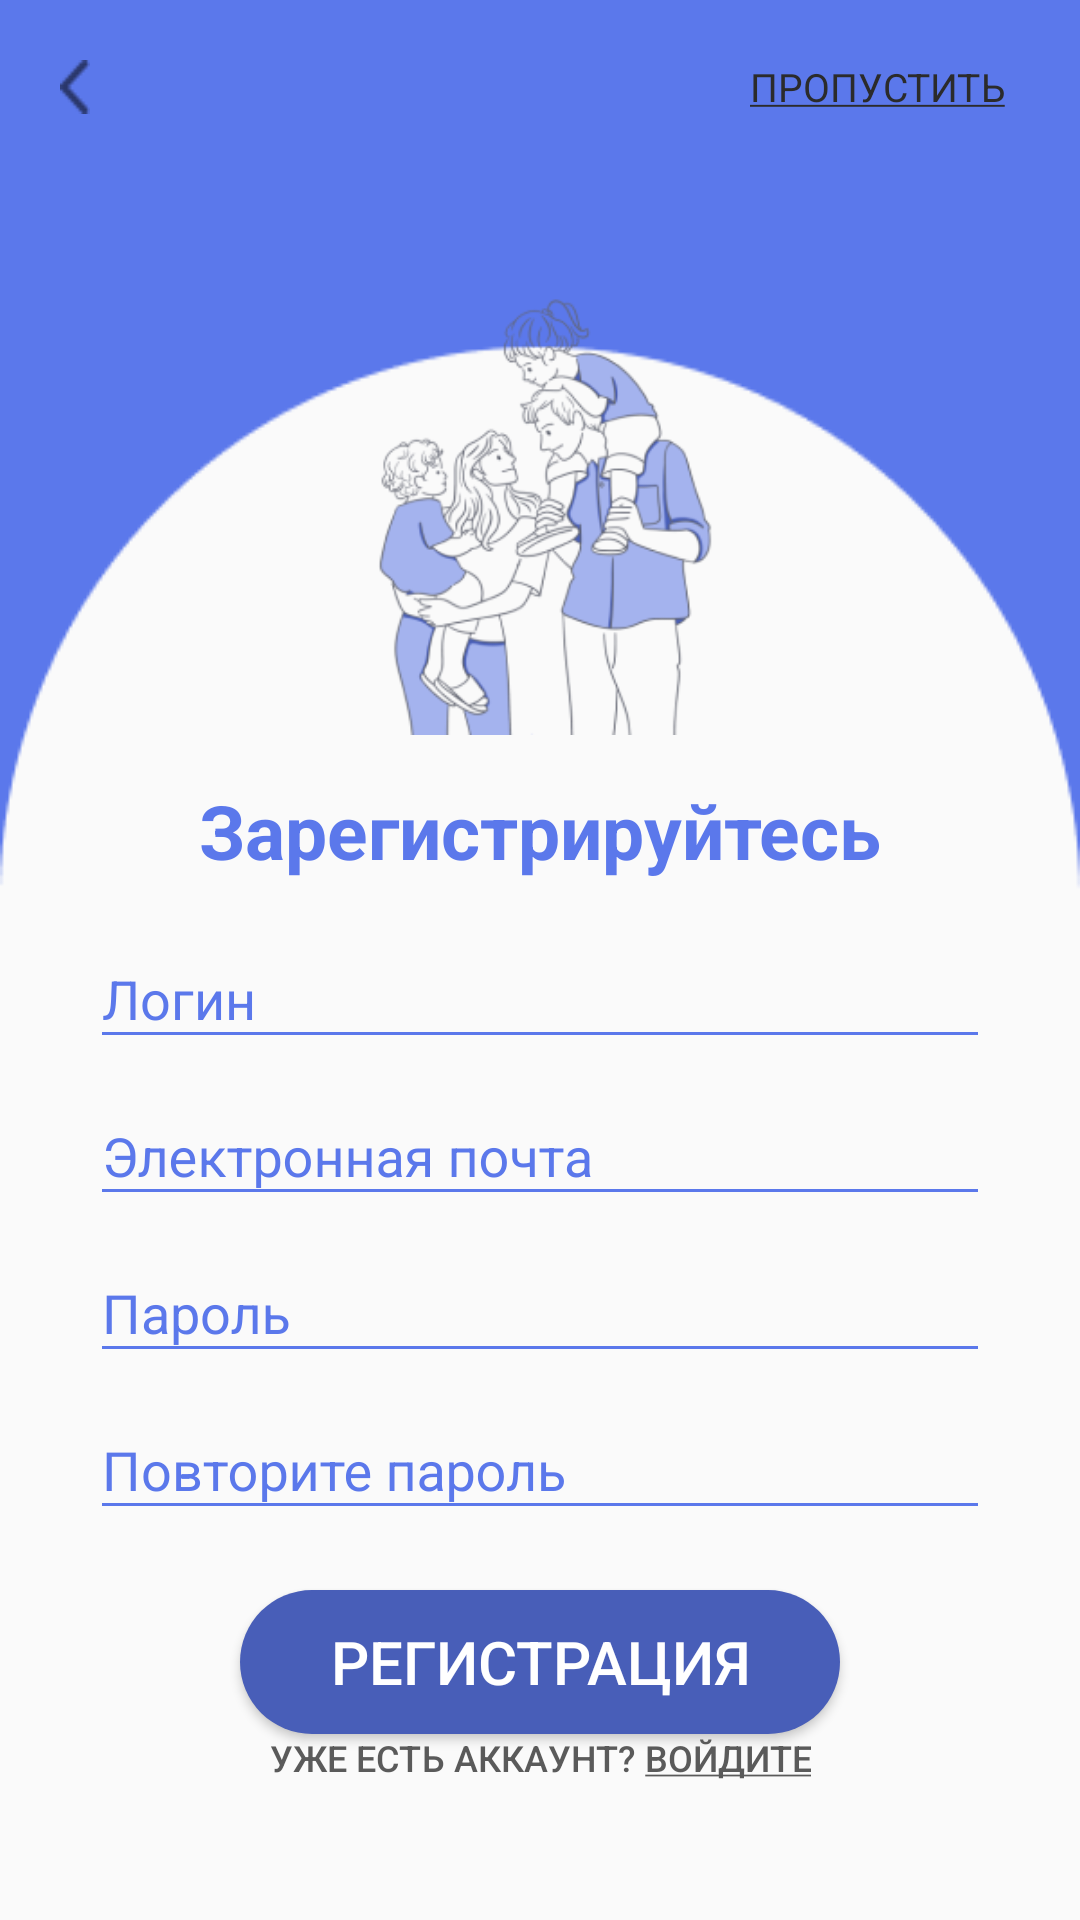

Icon click points for this 1080x1920 phone screenshot, format (x=x, y=y):
back: (x=75, y=87)
